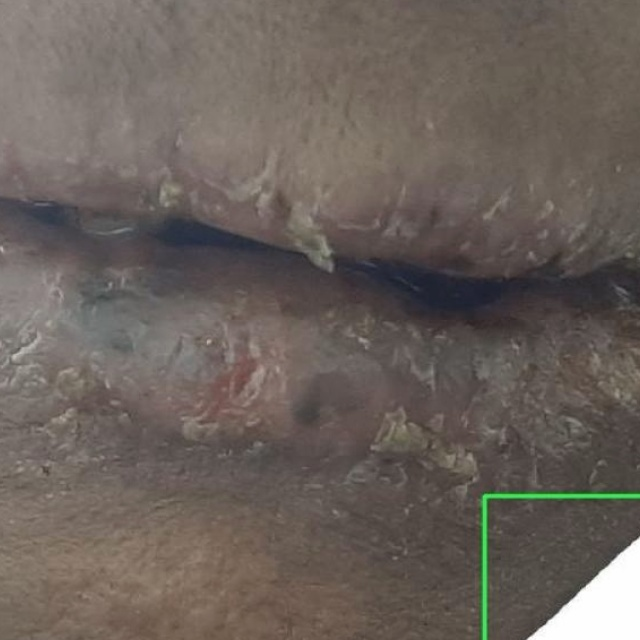Contact Dermatitis: (484, 495, 639, 639)
